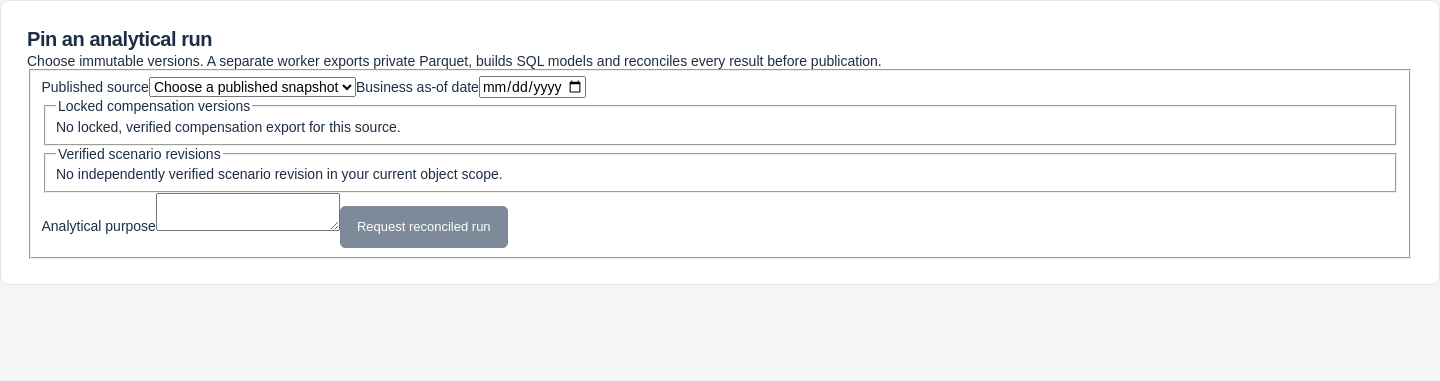
preserves the user's pinned draft when the API rejects a run
The width and height of the screenshot is (1440, 381).
Select "Sealed A" in the dropdown labelled "Published source": point(252, 87) [149,77,356,97]
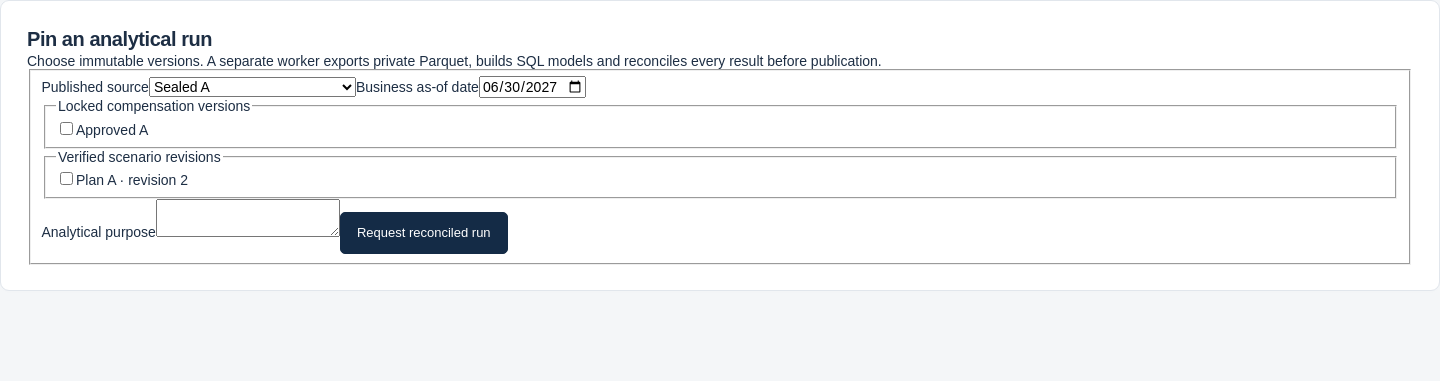
Click the checkbox named "Include cycle Approved A": point(66, 128) [60,122,73,135]
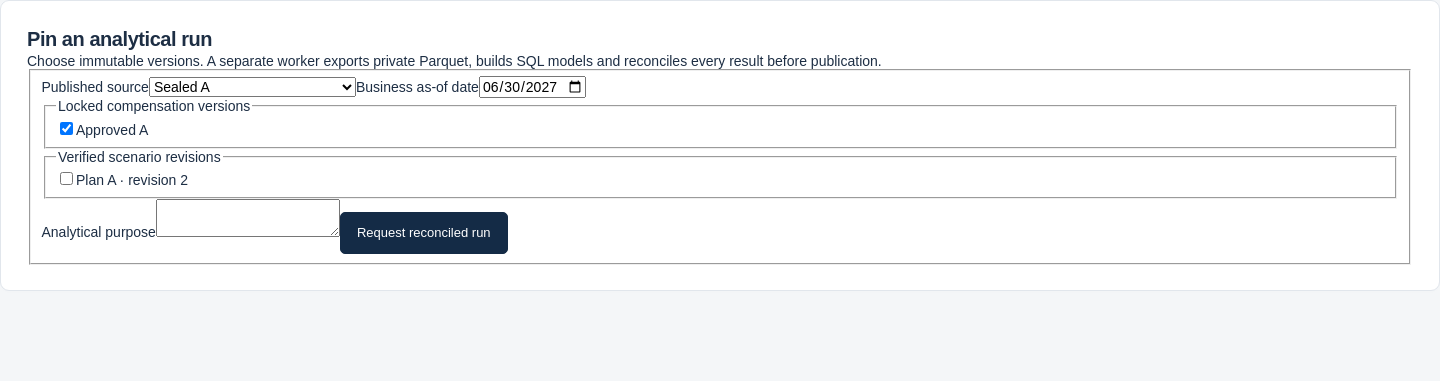
Click the checkbox named "Include scenario Plan A · revision 2": point(66, 179) [60,172,73,185]
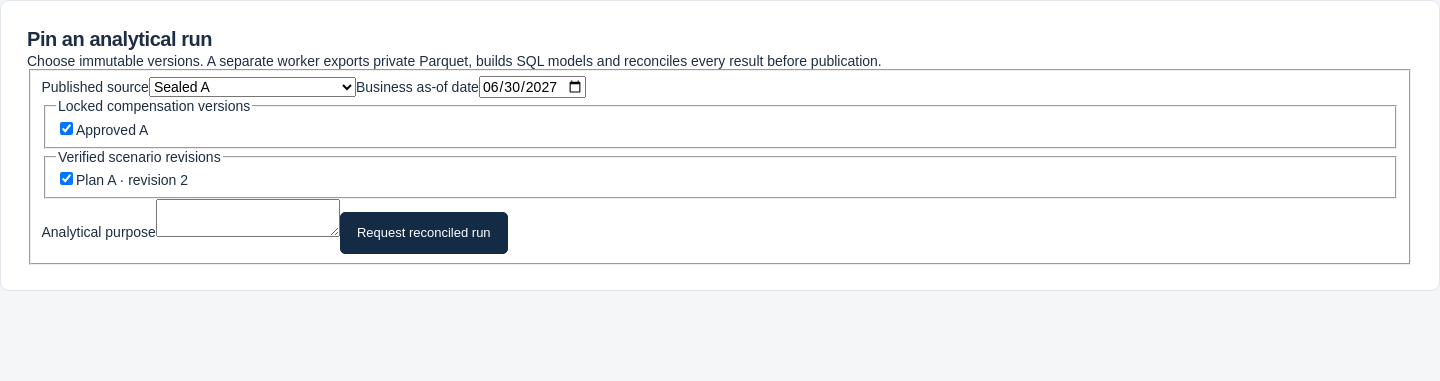
In the text box labelled "Analytical purpose": point(248, 218) [156,199,340,237], type "Reconcile the immutable reviewed versions"
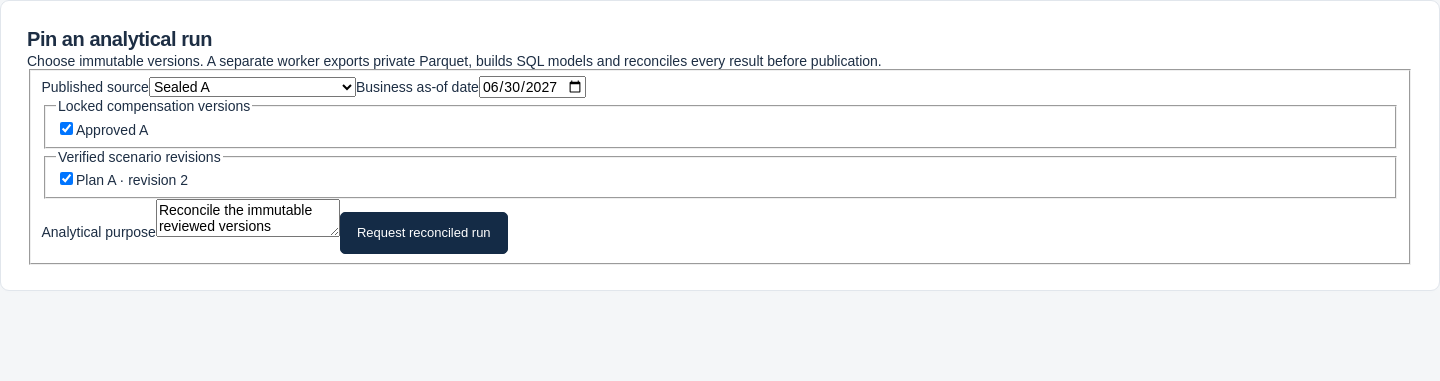
Click the button "Request reconciled run": point(424, 233) [340,212,508,254]
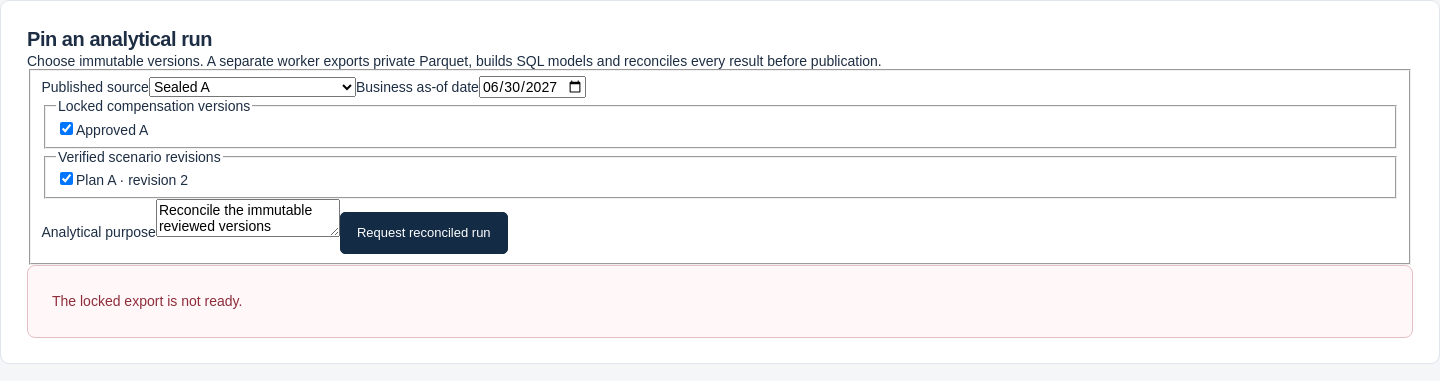
Check: the checkbox named "Include cycle Approved A" is checked, box [60,122,73,135]
Check: the message "The locked export is not ready." is shown, box [27,265,1413,338]
